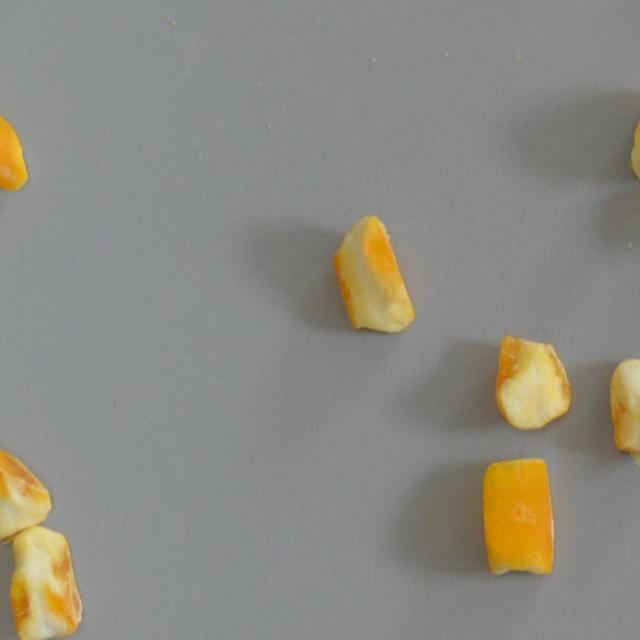pelicula: (330, 214, 416, 336), (1, 526, 84, 640), (481, 457, 554, 576), (494, 334, 572, 430), (0, 446, 54, 540), (607, 357, 640, 470), (0, 82, 30, 192), (622, 82, 640, 182)
